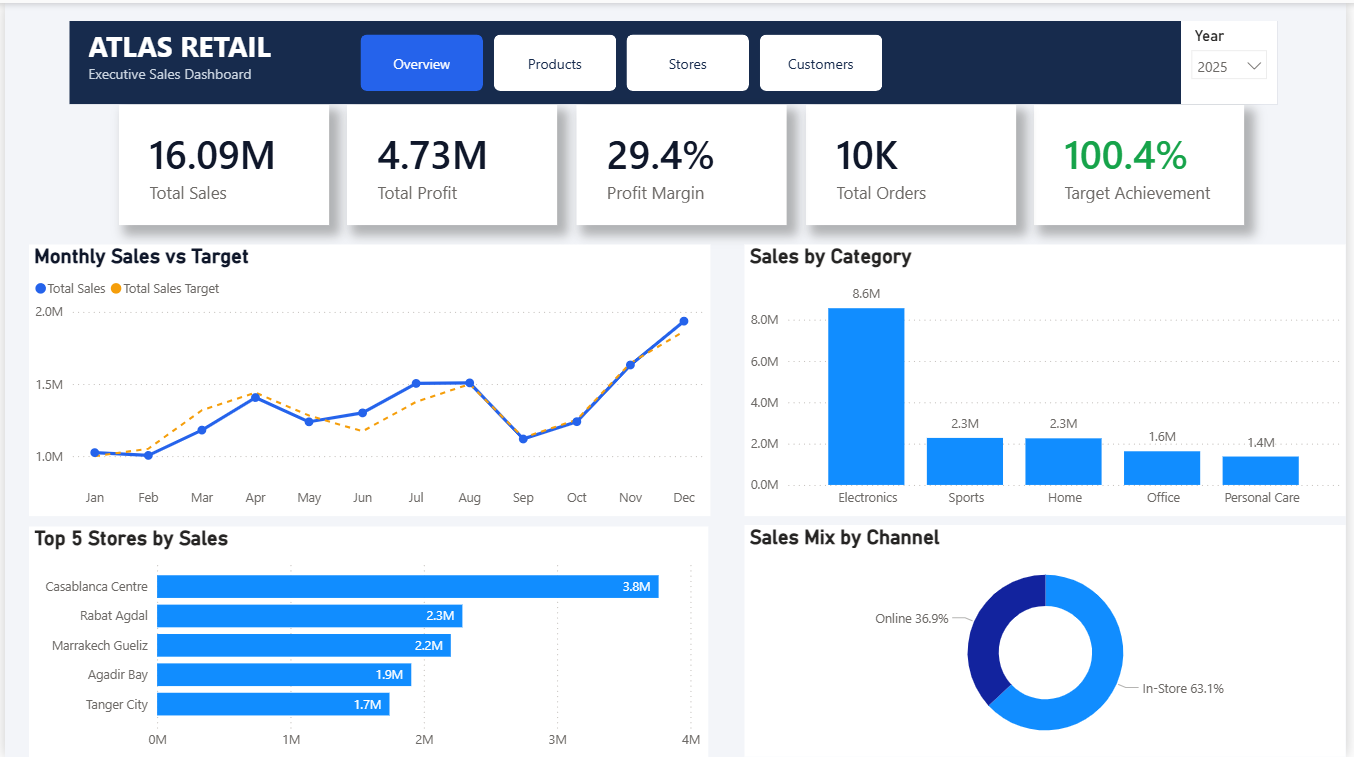

The dashboard page shown, as its layout file describes it:
{"tool":"powerbi","page":{"name":"Overview","canvas":[1280,720],"ordinal":0},"visuals":[{"type":"cardVisual","fields":{"Data":["Targets.Target Achievement"]},"box":[983,97,200.4,114.5],"z":0},{"type":"cardVisual","fields":{"Data":["Sales.Total Orderse"]},"box":[764.3,97,200.4,114.5],"z":1000},{"type":"cardVisual","fields":{"Data":["Sales.Total Sales"]},"box":[108.2,97,200.4,114.5],"z":2000},{"type":"cardVisual","fields":{"Data":["Sales.Total Profit"]},"box":[326.9,97,200.4,114.5],"z":3000},{"type":"shape","box":[62,17.5,1153.2,79.5],"z":4000},{"type":"textbox","box":[74.8,17.5,386.5,79.5],"z":5000},{"type":"cardVisual","fields":{"Data":["Sales.Profit Margin"]},"box":[545.6,97,200.4,114.5],"z":6000},{"type":"slicer","fields":{"Values":["Dimdate.Year"]},"box":[1123,17.5,92.3,79.5],"z":7000},{"type":"lineChart","title":"Monthly Sales vs Target","fields":{"Y":["Sales.Total Sales","Targets.Total Sales Target"],"Category":["Dimdate.Short Month"]},"box":[22.3,230.6,650.6,259.3],"z":8000},{"type":"clusteredColumnChart","title":"Sales by Category","fields":{"Category":["Products.Category"],"Y":["Sales.Total Sales"]},"box":[706.2,230.6,574.2,259.3],"z":9000},{"type":"clusteredBarChart","title":"Top 5 Stores by Sales","fields":{"Y":["Sales.Total Sales"],"Category":["Stores.Store Short Name"]},"box":[22.3,499.5,649,221.1],"z":10000},{"type":"donutChart","title":"Sales Mix by Channel","fields":{"Category":["Sales.Channel"],"Y":["Sales.Total Sales"]},"box":[706,499,574,221],"z":11000},{"type":"pageNavigator","box":[338.8,30.2,501,54.1],"z":12000}]}

Visuals, with their boxes in screenshot pixels (x1, y1, x2, y2), scaled from the page's 1280x720 canvas onto the 1354x757 screenshot:
cardVisual - Targets.Target Achievement: 1040, 102, 1252, 222
cardVisual - Sales.Total Orderse: 808, 102, 1020, 222
cardVisual - Sales.Total Sales: 114, 102, 326, 222
cardVisual - Sales.Total Profit: 346, 102, 558, 222
shape: 66, 18, 1285, 102
textbox: 79, 18, 488, 102
cardVisual - Sales.Profit Margin: 577, 102, 789, 222
slicer - Dimdate.Year: 1188, 18, 1286, 102
"Monthly Sales vs Target" lineChart: 24, 242, 712, 515
"Sales by Category" clusteredColumnChart: 747, 242, 1353, 515
"Top 5 Stores by Sales" clusteredBarChart: 24, 525, 710, 756
"Sales Mix by Channel" donutChart: 747, 525, 1353, 756
pageNavigator: 358, 32, 888, 89
